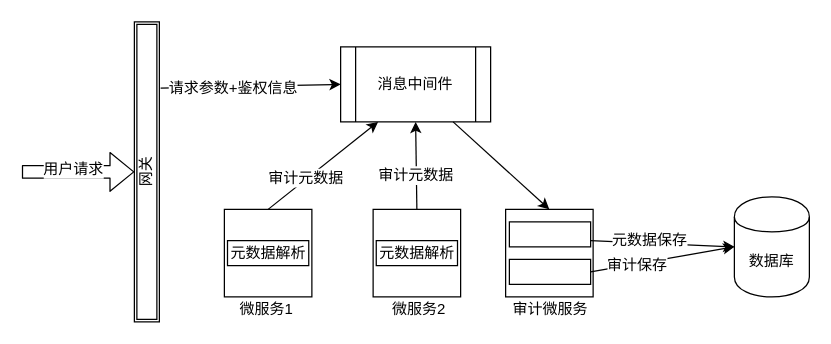
Some shapes in this 831 by 344 pixel diagram are drawn without their labels. The box of each missing label's shape, as (x1, y1, x2, y2) in pixels:
元数据分析: (508, 221, 591, 247)
审计分析: (508, 258, 591, 284)
